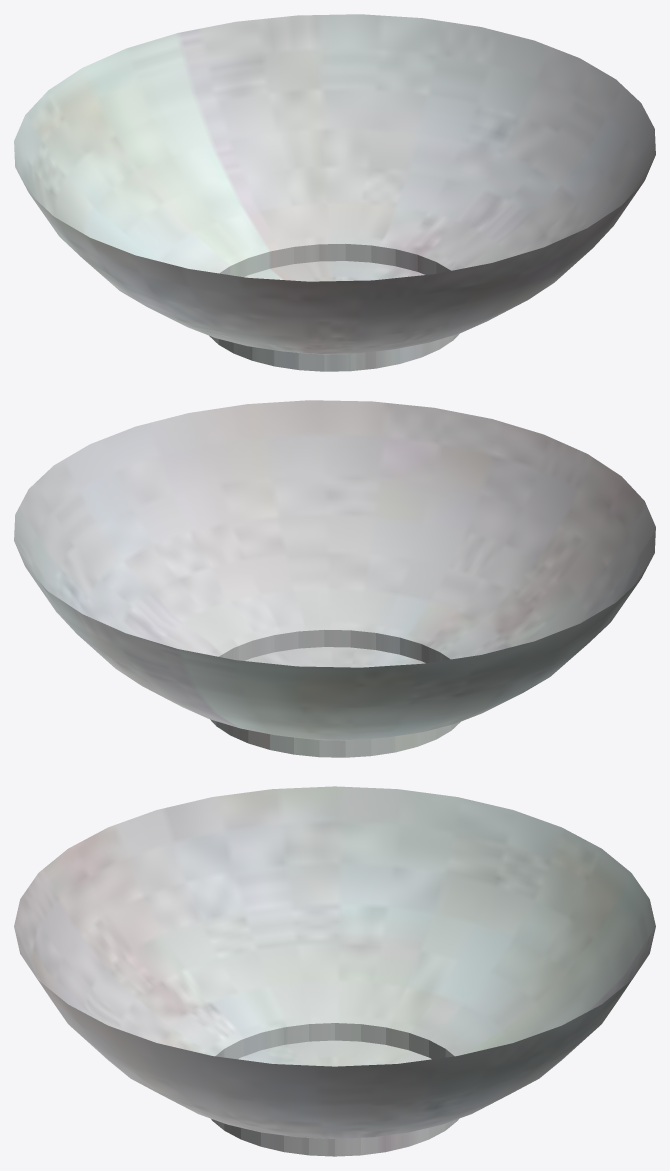
File: tazoncito.obj
The picture shows the model from 3 angles, top to bottom: view 1: azimuth 30°, elevation 25°; view 2: azimuth 150°, elevation 25°; view 3: azimuth 270°, elevation 25°; orthographic projection. The views are drawn at different scales.
Visible parts, largest first — view 1: Sphere001; view 2: Sphere001; view 3: Sphere001.
Boxes of the visible parts, box(x1,y1,x2,y2) form: Sphere001: box(14, 14, 655, 371); Sphere001: box(14, 400, 655, 757); Sphere001: box(14, 786, 655, 1156).
Size of the model in its own units: 11.56 by 3.39 by 11.19.
